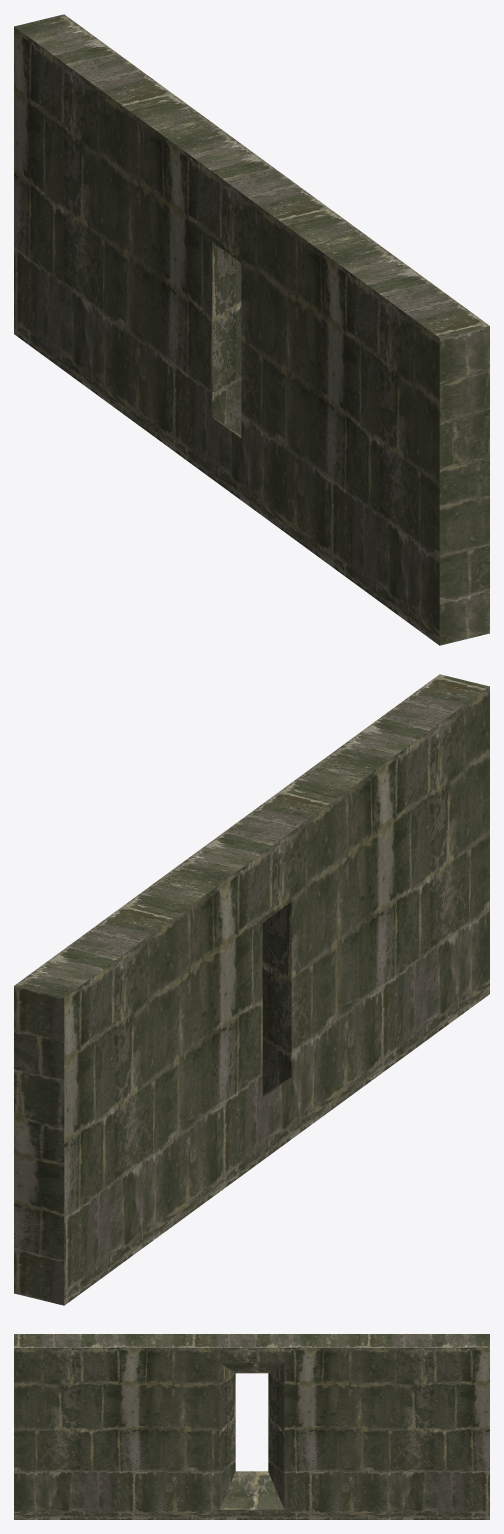
The model's file is HorizontalHalfWall_Arrowslit.fbx.
3 views of the same model, one above another, from view 1: azimuth 30°, elevation 25°; view 2: azimuth 150°, elevation 25°; view 3: azimuth 270°, elevation 25° (orthographic). The views are drawn at different scales.
Parts seen in each view (by area): view 1: HorizontalHalfWall_Arrowslit; view 2: HorizontalHalfWall_Arrowslit; view 3: HorizontalHalfWall_Arrowslit.
Boxes of the visible parts, x1=… form: HorizontalHalfWall_Arrowslit: x1=14, y1=14, x2=489, y2=645; HorizontalHalfWall_Arrowslit: x1=14, y1=674, x2=489, y2=1305; HorizontalHalfWall_Arrowslit: x1=14, y1=1334, x2=489, y2=1519.
Bounding box in the file's own units: 51 × 298 × 748.
